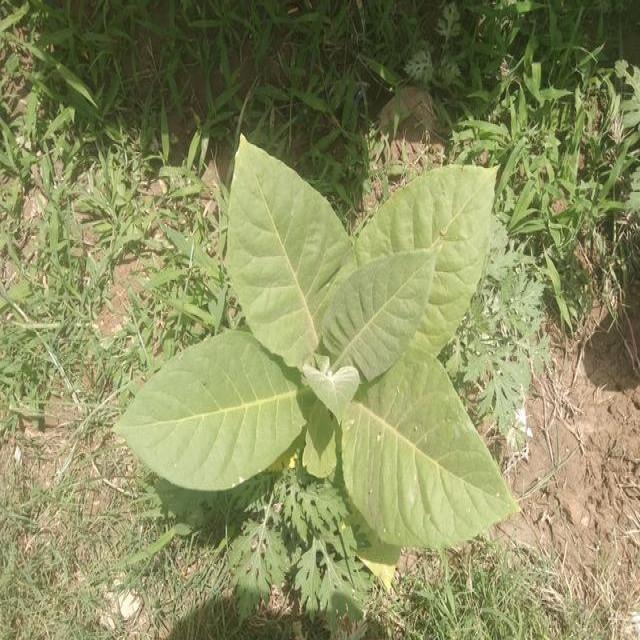crop: (123, 128, 519, 550)
